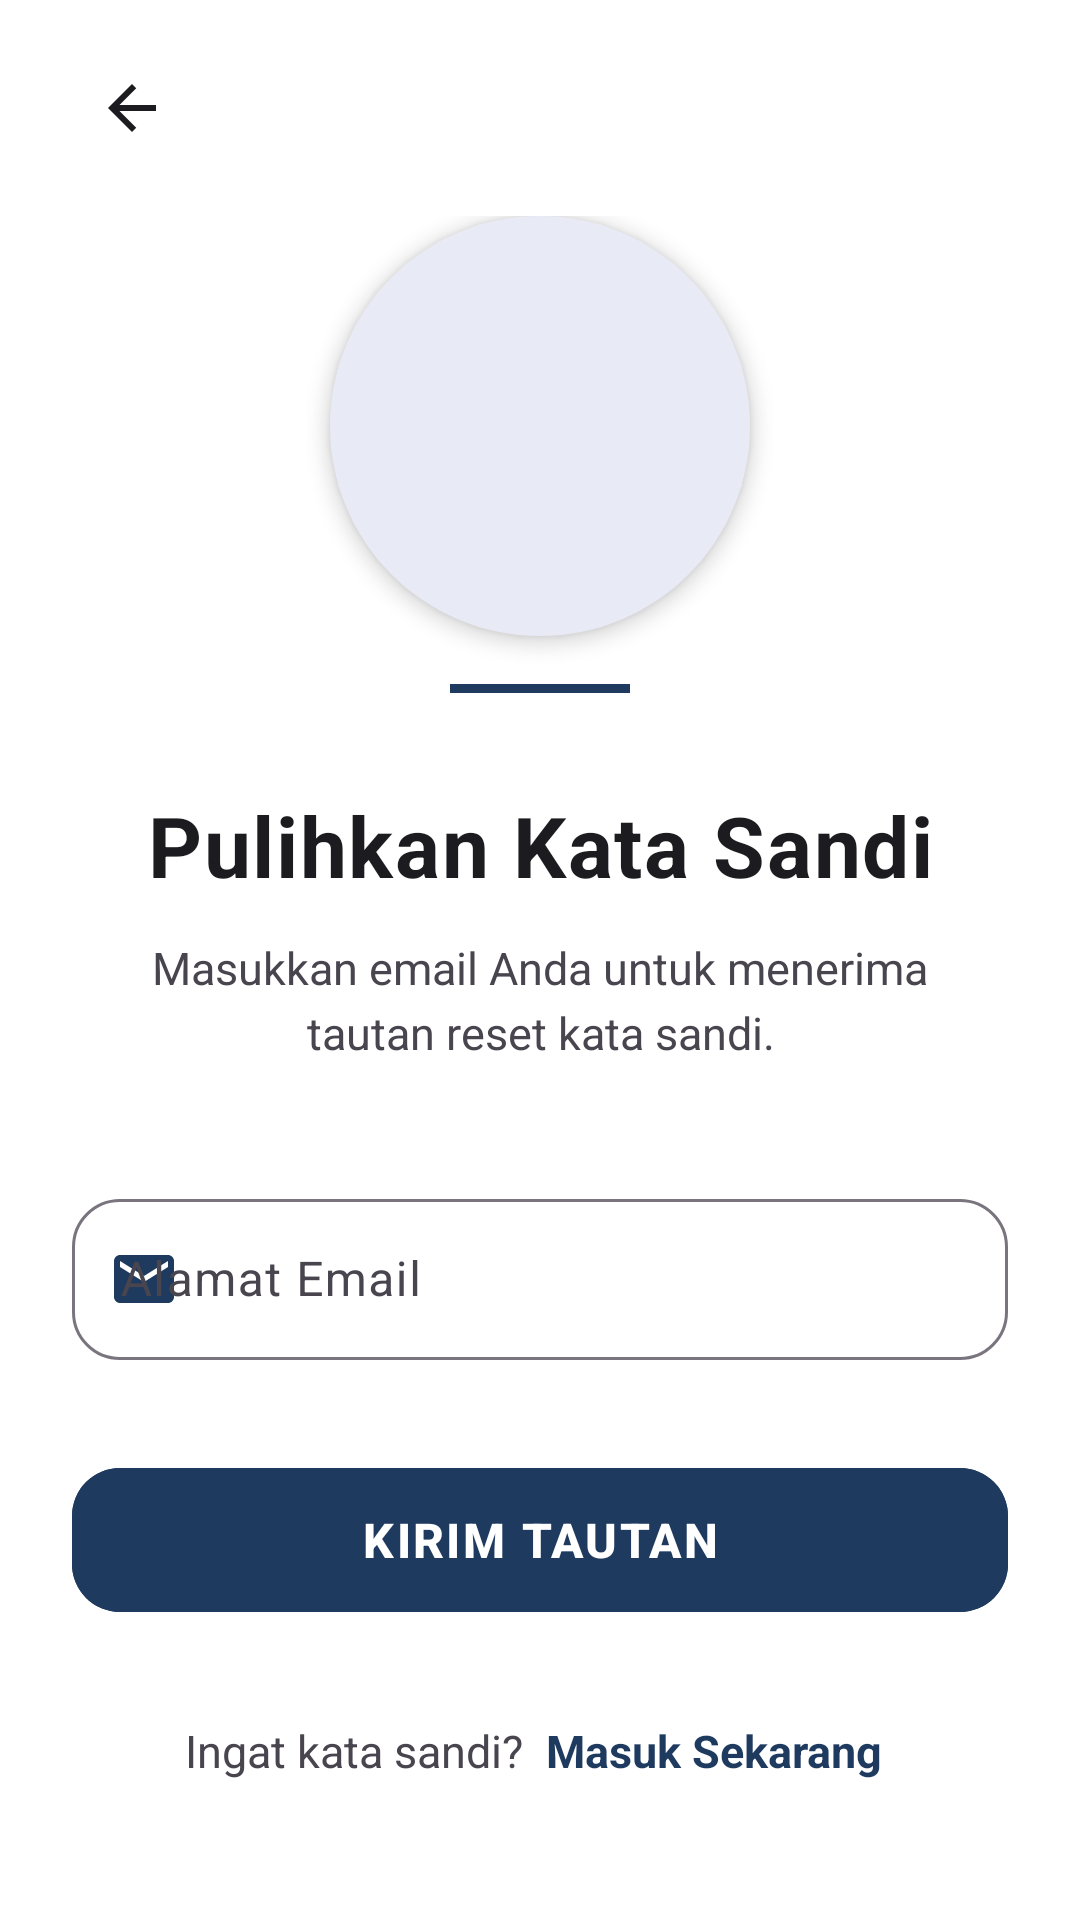

Named icons in this screenshot (1080 × 1920) and their centers, point (x, y):
Kembali: point (132, 108)
